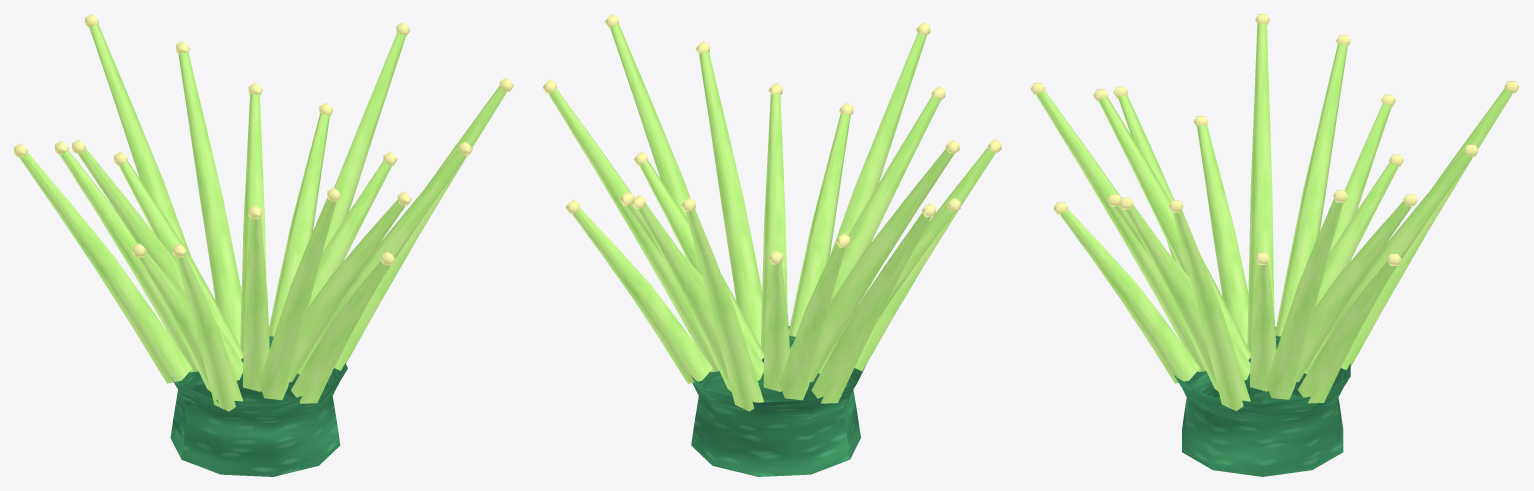
File: alien_spore_anemone.glb
3 renders of one model, left to right at view 1: azimuth 30°, elevation 25°; view 2: azimuth 150°, elevation 25°; view 3: azimuth 270°, elevation 25°, orthographic.
Size of the model in its own units: 0.9183 by 0.7319 by 0.9505.
Materials: 1 (1 with a texture image).
